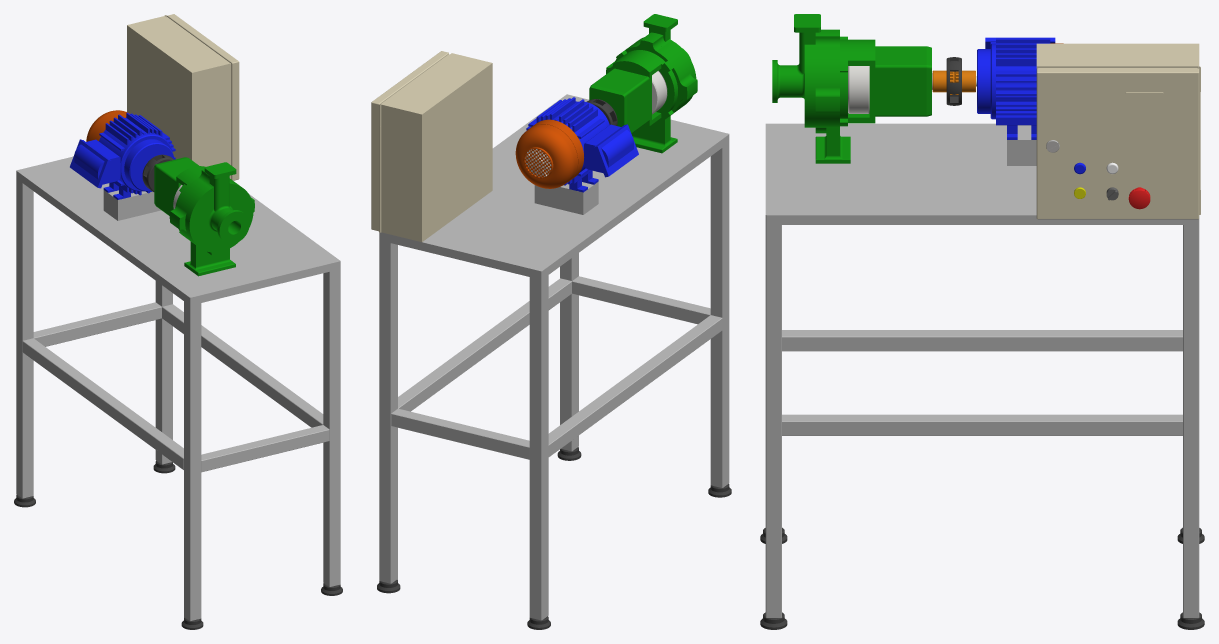
The model's file is montagem_motor.glb.
3 views of the same model, side by side, from view 1: azimuth 30°, elevation 25°; view 2: azimuth 150°, elevation 25°; view 3: azimuth 270°, elevation 25° (orthographic). The views are drawn at different scales.
Visible parts, largest first — view 1: Solid1 (×18); view 2: Solid1 (×17); view 3: Solid1 (×13).
Part boxes in pixels (x1=…): Solid1 (×18): x1=16, y1=14, x2=340, y2=620; Solid1 (×17): x1=371, y1=14, x2=729, y2=620; Solid1 (×13): x1=765, y1=14, x2=1200, y2=617.
Bounding box in the file's own units: 0.4648 × 1.14 × 0.82.
